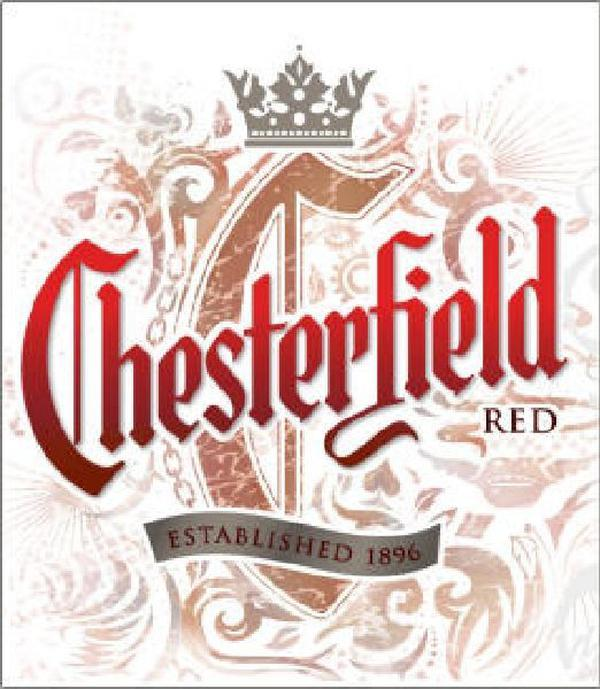chesterfield_red: (2, 1, 598, 689)
